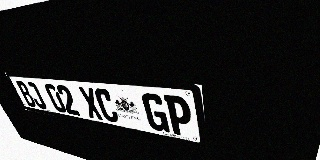0: (43, 83, 68, 113)
2: (55, 84, 80, 116)
B: (15, 81, 38, 108)
C: (93, 88, 120, 123)
G: (141, 92, 170, 133)
J: (24, 82, 48, 110)
P: (163, 95, 194, 137)
X: (77, 86, 104, 120)
